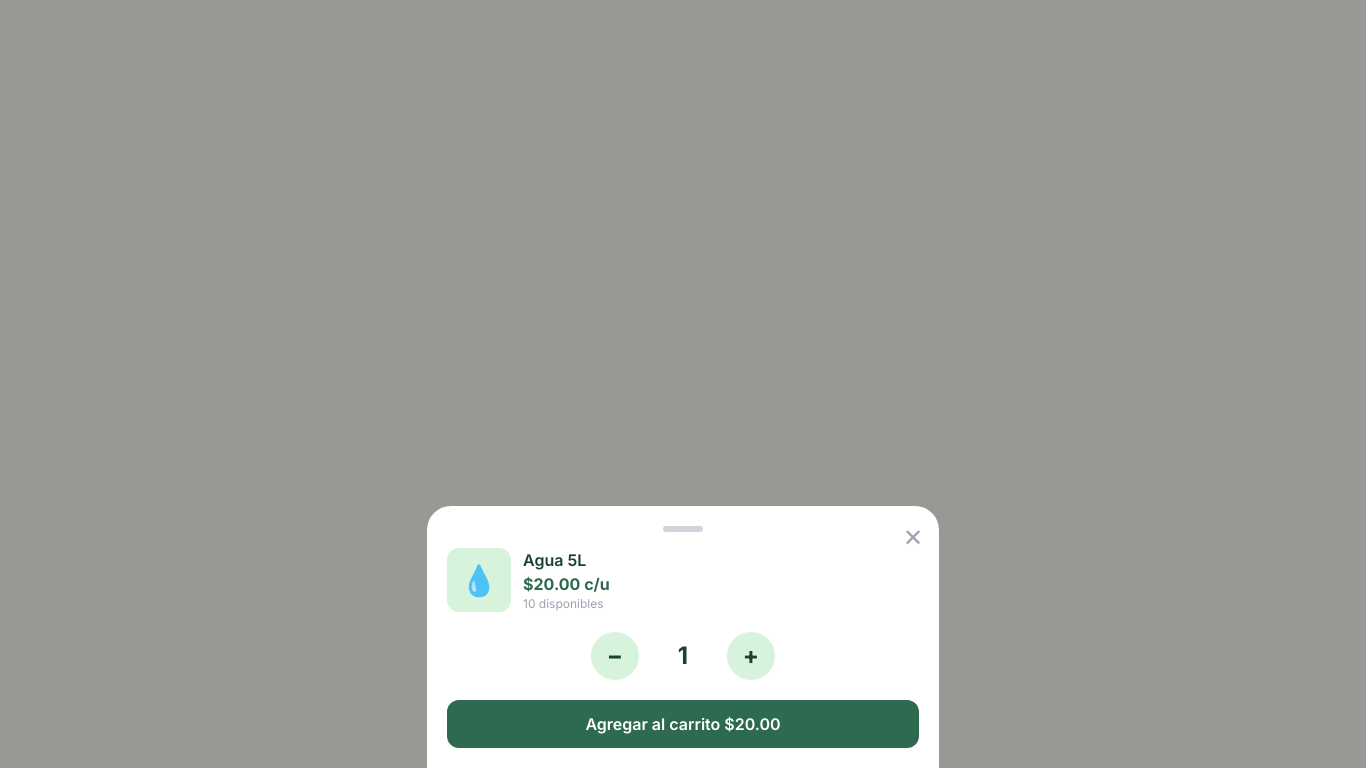
Test case: ProductQuantityModal › starts at qty 1 for a new product and updates subtotal
Expected: the text "1" is shown, [678,641,688,670]
Click the button named "Más" at coordinates (751, 656), box [727,632,775,680]
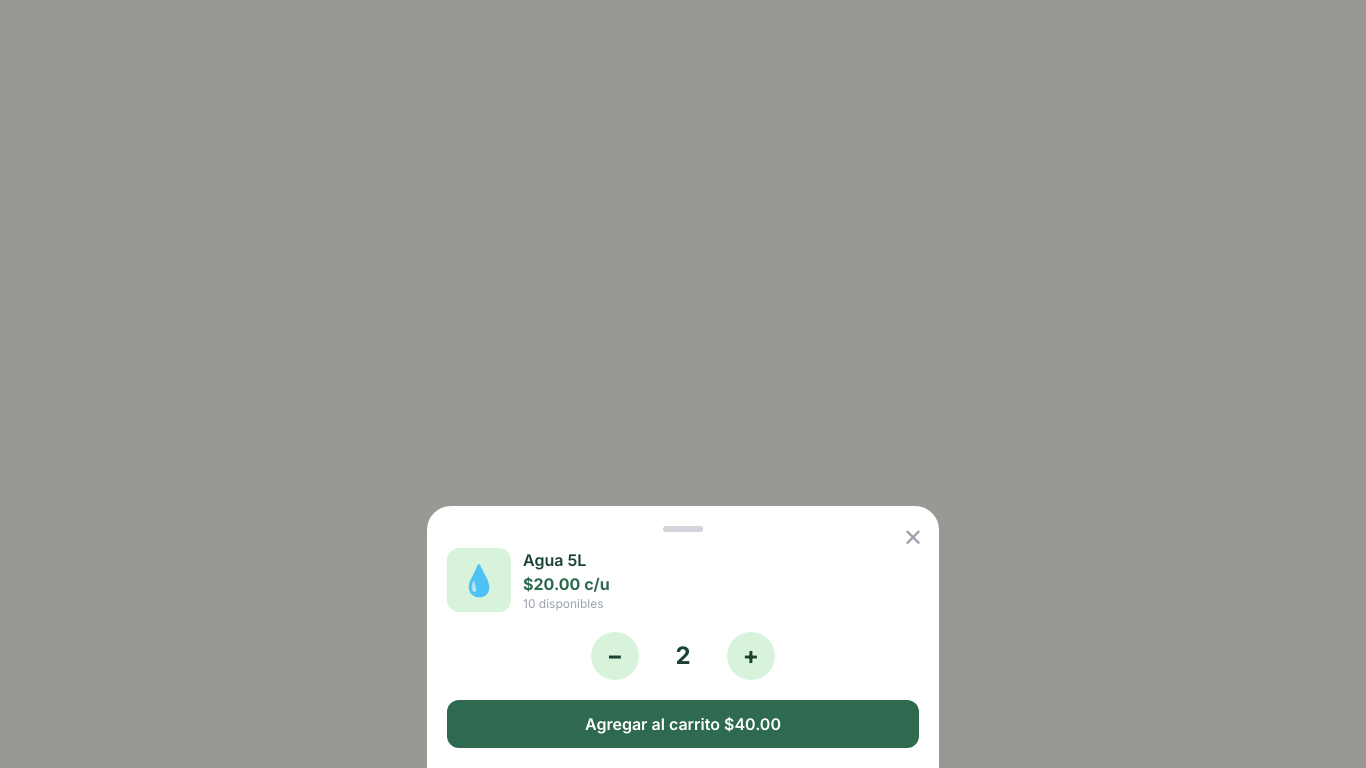
Expected: the text "2" is shown, [675,641,690,670]
Expected: the button "Agregar al carrito $40.00" is shown, [447,700,919,748]
